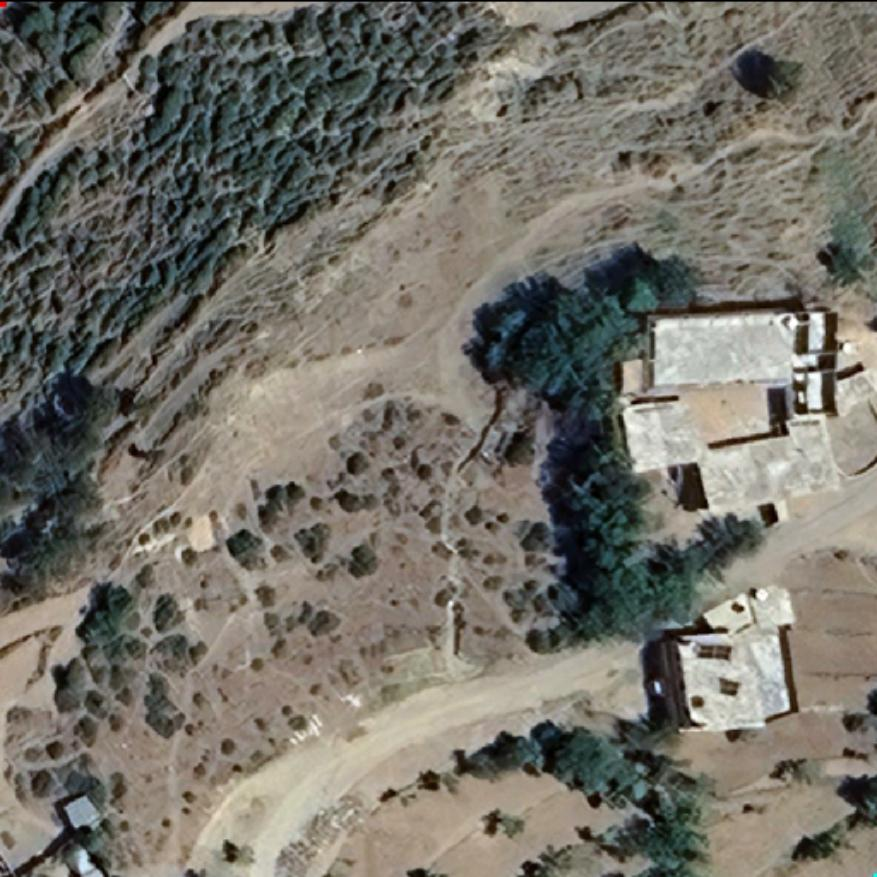Solarpanel: (694, 642, 734, 662), (717, 678, 741, 696)
